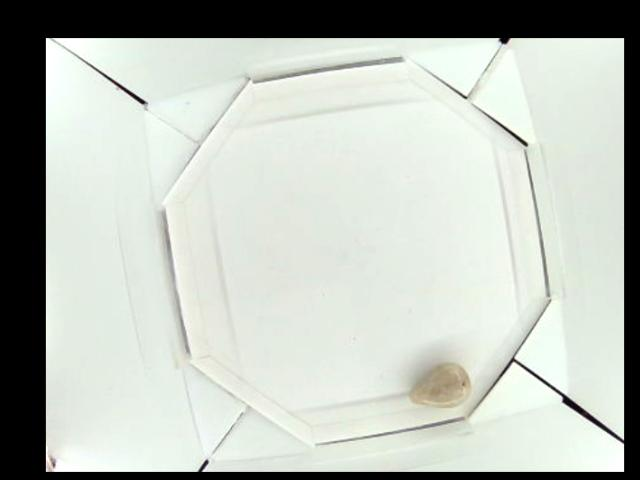Pebble: (406, 360, 470, 406)
